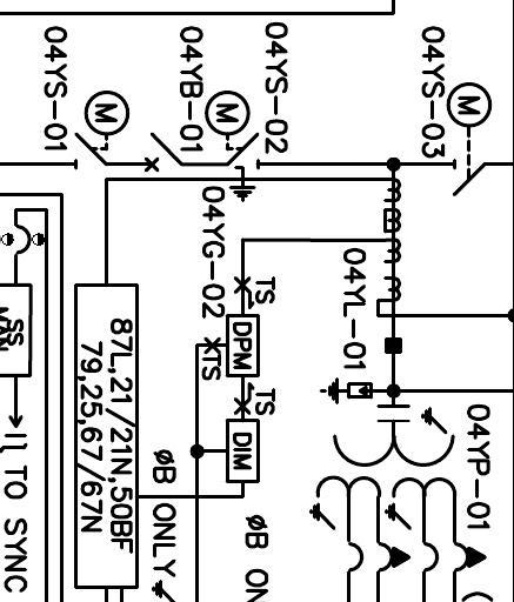115_1way_ds_w_motor: (446, 81, 493, 197), (74, 89, 130, 170)
115_3ways_ds_w_motor: (203, 90, 261, 203)
115_breaker: (144, 132, 183, 172)
115_cvt_1p: (308, 404, 487, 575)
115_la: (319, 377, 373, 405)
DIM: (225, 419, 260, 483)
DPM: (225, 314, 260, 378)
